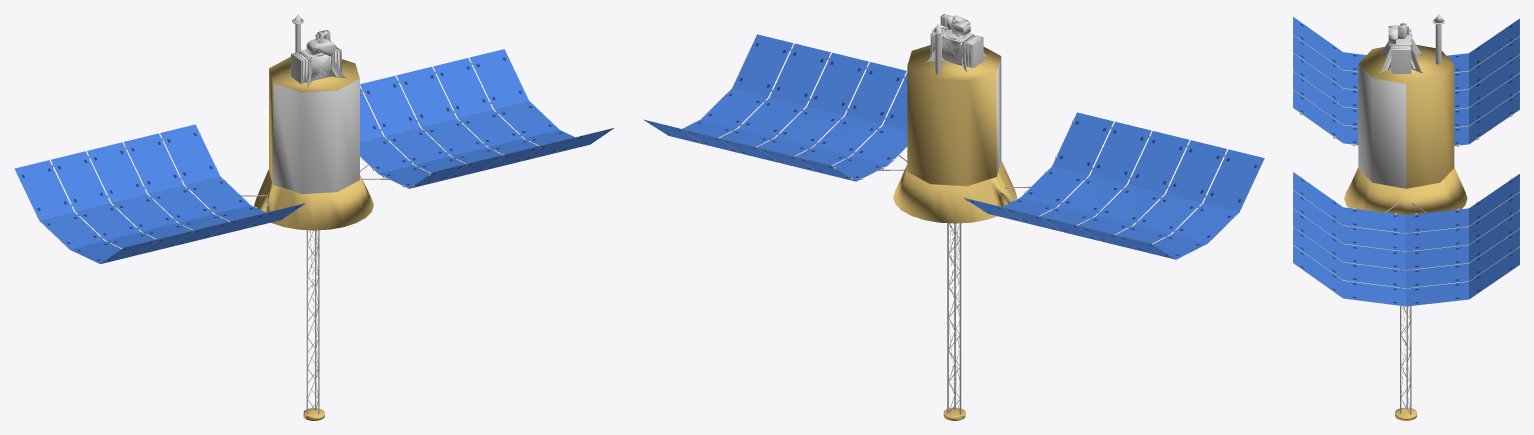
File: satellite-for-scientific-applications-sac-c.glb
3 views of the same model, side by side, from view 1: azimuth 30°, elevation 25°; view 2: azimuth 150°, elevation 25°; view 3: azimuth 270°, elevation 25° (orthographic). The views are drawn at different scales.
Visible parts, largest first — view 1: Fake; view 2: Fake; view 3: Fake.
Part boxes in pixels (x1,y1,x2,y2): Fake: [14, 14, 613, 420]; Fake: [643, 14, 1264, 420]; Fake: [1293, 14, 1519, 420].
Bounding box in the file's own units: 60.24 × 45.9 × 23.46.
